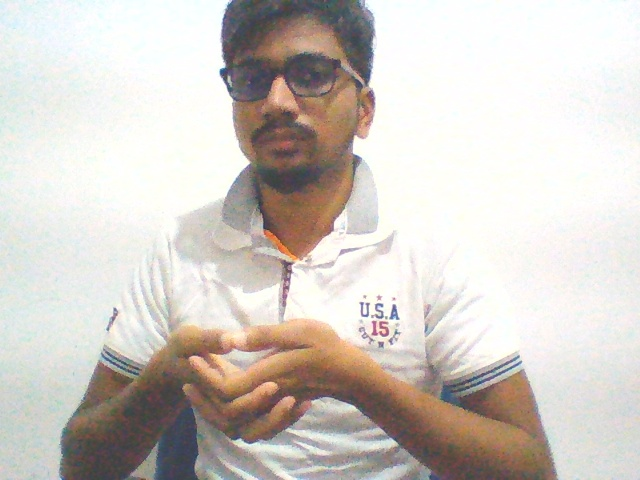mangosteen: (150, 307, 363, 451)
